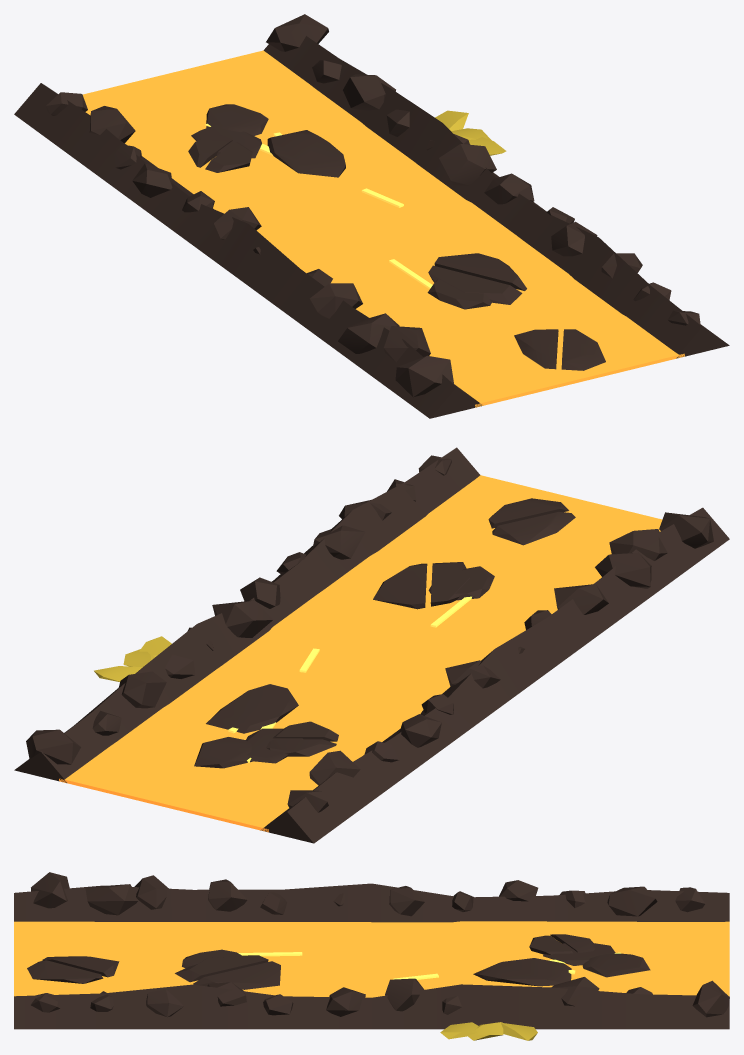
File: lava_river.glb
3 views of the same model, one above another, from view 1: azimuth 30°, elevation 25°; view 2: azimuth 150°, elevation 25°; view 3: azimuth 270°, elevation 25° (orthographic). The views are drawn at different scales.
Visible parts, largest first — view 1: lava_river; view 2: lava_river; view 3: lava_river.
Part boxes in pixels (box(x1,y1,x2,y2)): lava_river: box(14, 14, 729, 418); lava_river: box(14, 447, 729, 843); lava_river: box(14, 872, 729, 1040).
Size of the model in its own units: 11.47 by 1.31 by 24.01.
